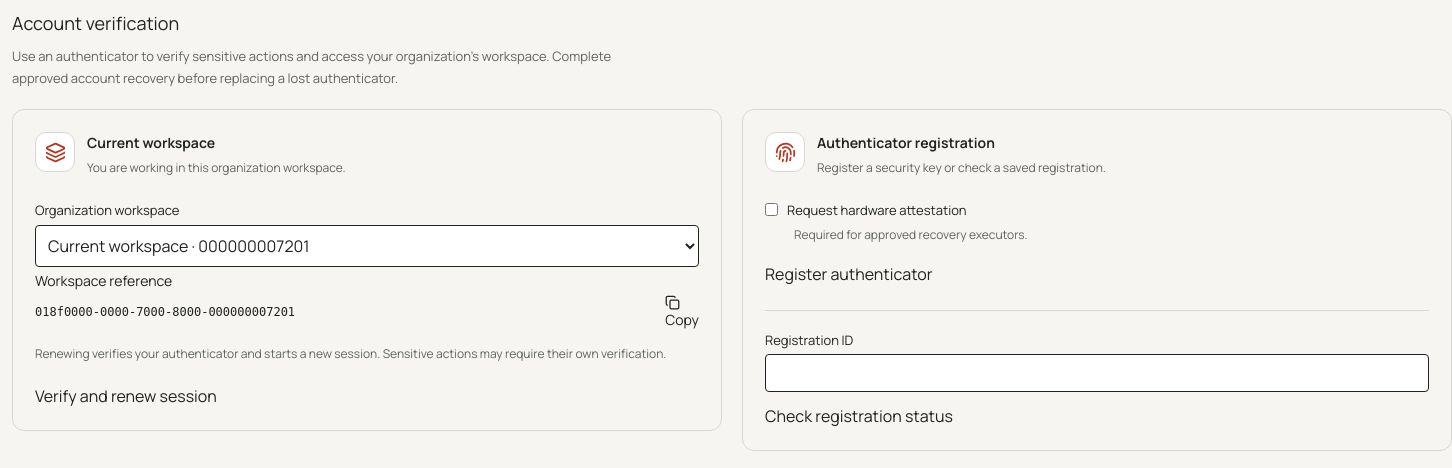
Test: keeps the current workspace selected among alternatives until the user chooses another
This screenshot has width=1452, height=468.
Expected: the button "Verify and renew session" is enabled, x1=35 y1=384 x2=217 y2=408
Select "Workspace · 000000000112" in the dropdown labelled "Organization workspace" at (367, 246), box x1=35 y1=225 x2=699 y2=267
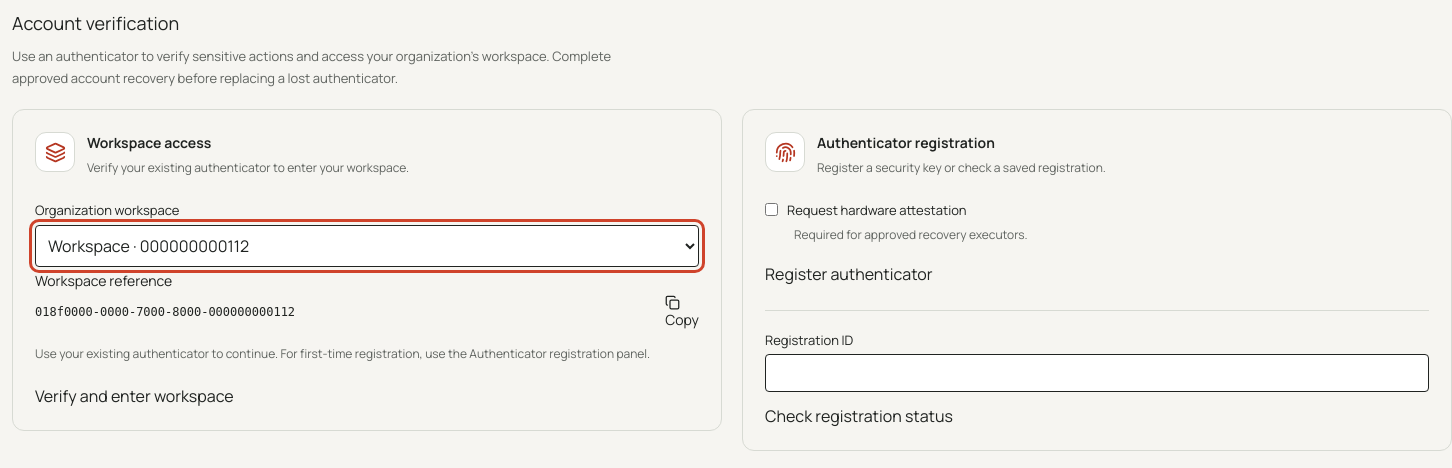
Now the text "018f0000-0000-7000-8000-000000000112" is shown, box x1=35 y1=305 x2=295 y2=319
Now the text "018f0000-0000-7000-8000-000000007201" is gone
Now the button "Verify and renew session" is gone
